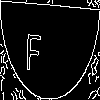F: (25, 24, 42, 72)
